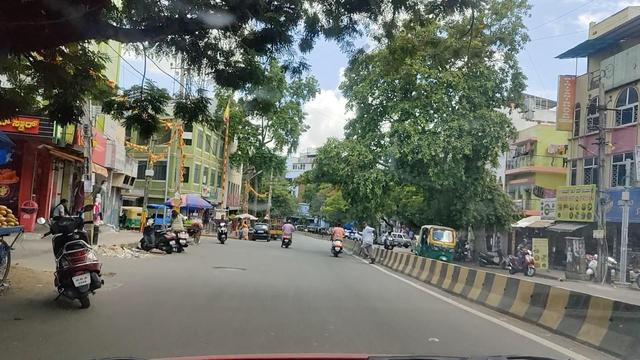LMV: (46, 216, 112, 309), (332, 223, 345, 258)
